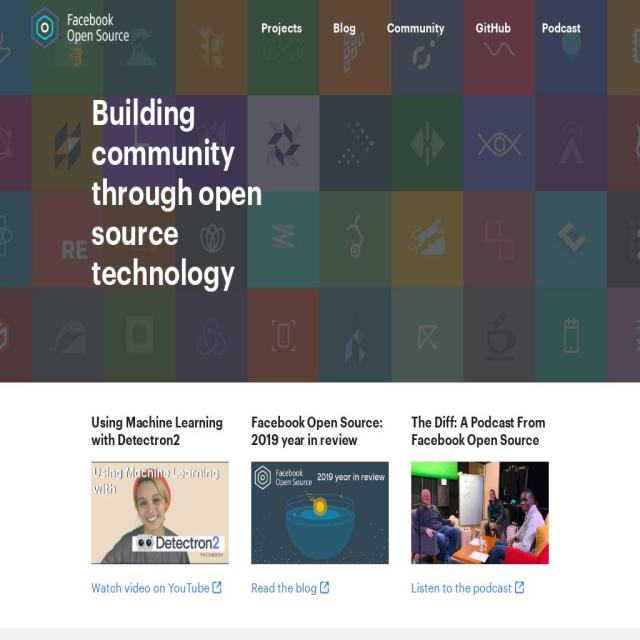button: (31, 6, 162, 48), (91, 579, 210, 596), (412, 579, 512, 596), (252, 579, 318, 596)
heading: (91, 90, 320, 292), (91, 412, 229, 448), (251, 412, 389, 448), (411, 412, 549, 448)
image: (91, 461, 229, 565), (251, 461, 389, 565), (411, 461, 549, 565), (32, 6, 130, 48), (319, 581, 330, 595), (514, 581, 525, 595), (212, 581, 222, 595)
link: (387, 18, 444, 35), (261, 18, 302, 35), (542, 18, 580, 35), (476, 18, 510, 35), (333, 18, 356, 35)
text: (91, 579, 210, 596), (412, 579, 512, 596), (252, 579, 318, 596)
